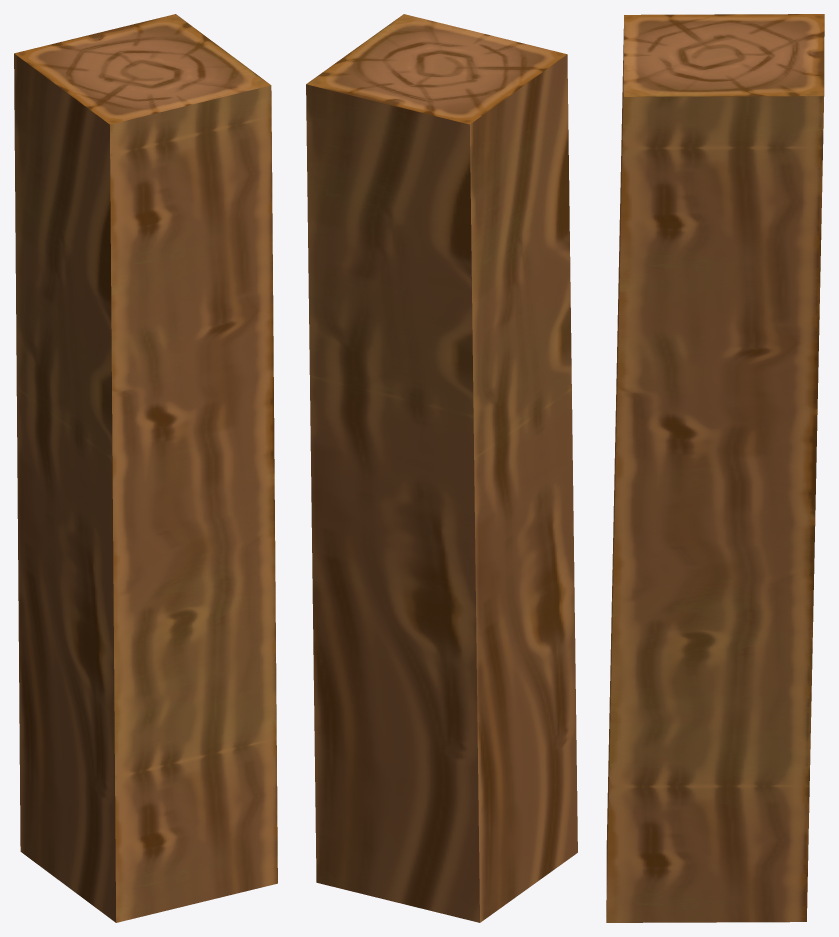
The picture shows the model from 3 angles, left to right: view 1: azimuth 30°, elevation 25°; view 2: azimuth 150°, elevation 25°; view 3: azimuth 270°, elevation 25°; orthographic projection. The views are drawn at different scales.
Parts seen in each view (by area): view 1: Cube.1644; view 2: Cube.1644; view 3: Cube.1644.
Boxes of the visible parts, bbox=[...] form: Cube.1644: bbox=[14, 14, 277, 922]; Cube.1644: bbox=[306, 14, 577, 922]; Cube.1644: bbox=[606, 14, 824, 922].
Size of the model in its own units: 39.13 by 181 by 43.25.
Materials: 1 (1 with a texture image).
